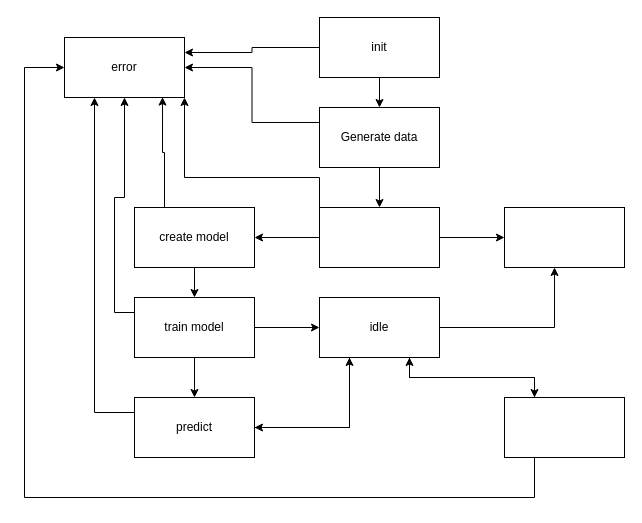
The diagram is 642 pixels wide and 523 high, and some of its shapes have lost their labels. The shapes that lost their labels are listed below. From the top down, each one's box as (x1, y1, x2, y2) in pixels, then its label:
(318, 206, 440, 268): save data
(504, 206, 624, 268): complete
(504, 396, 624, 458): visualize
